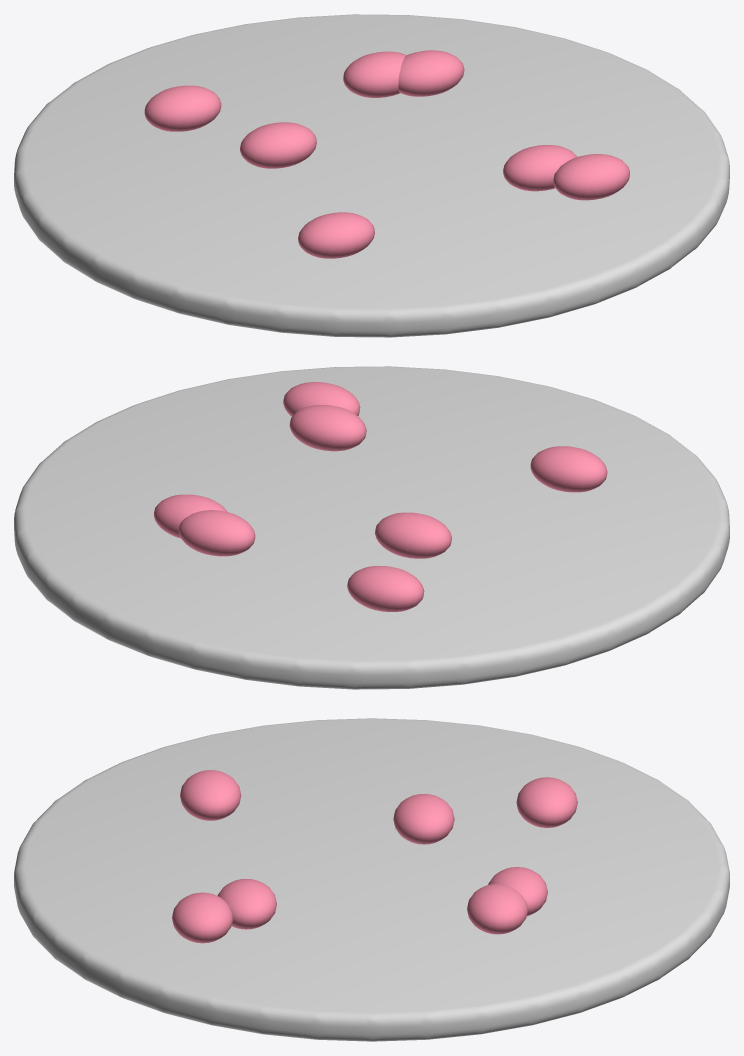
File: Plate.glb
3 views of the same model, one above another, from view 1: azimuth 30°, elevation 25°; view 2: azimuth 150°, elevation 25°; view 3: azimuth 270°, elevation 25° (orthographic).
Visible parts, largest first — view 1: Cylinder, Sphere.001, Sphere.004, Sphere.006, Sphere, Sphere.002, Sphere.003, Sphere.005; view 2: Cylinder, Sphere, Sphere.003, Sphere.004, Sphere.001, Sphere.005, Sphere.006, Sphere.002; view 3: Cylinder, Sphere, Sphere.001, Sphere.004, Sphere.006, Sphere.002, Sphere.003, Sphere.005.
Boxes of the visible parts, left/top/right/bottom form: Cylinder: left=14, top=14, right=729, bottom=337; Sphere.001: left=144, top=85, right=221, bottom=131; Sphere.004: left=240, top=122, right=316, bottom=168; Sphere.006: left=553, top=154, right=629, bottom=200; Sphere: left=298, top=212, right=374, bottom=258; Sphere.002: left=398, top=50, right=464, bottom=96; Sphere.003: left=503, top=145, right=577, bottom=191; Sphere.005: left=343, top=51, right=406, bottom=97; Cylinder: left=14, top=366, right=729, bottom=689; Sphere: left=530, top=446, right=607, bottom=492; Sphere.003: left=289, top=405, right=366, bottom=451; Sphere.004: left=375, top=512, right=451, bottom=558; Sphere.001: left=347, top=566, right=424, bottom=611; Sphere.005: left=178, top=510, right=255, bottom=556; Sphere.006: left=283, top=382, right=360, bottom=416; Sphere.002: left=154, top=494, right=227, bottom=538; Cylinder: left=14, top=718, right=729, bottom=1041; Sphere: left=180, top=770, right=241, bottom=820; Sphere.001: left=516, top=777, right=577, bottom=827; Sphere.004: left=393, top=794, right=454, bottom=844; Sphere.006: left=172, top=892, right=232, bottom=943; Sphere.002: left=467, top=883, right=528, bottom=934; Sphere.003: left=217, top=878, right=276, bottom=929; Sphere.005: left=488, top=867, right=547, bottom=916.
Size of the model in its own units: 0.699 by 0.065 by 0.699.
